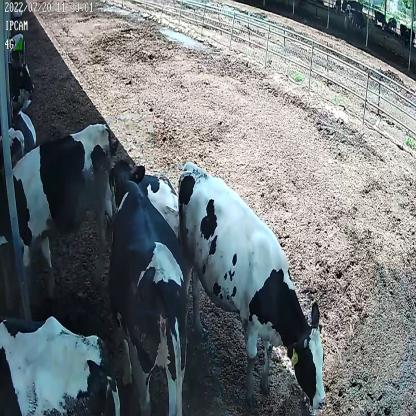cow: (175, 158, 328, 412), (105, 158, 189, 416), (2, 118, 113, 295)
